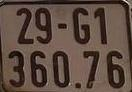-: (57, 23, 67, 29)
.: (76, 83, 81, 88)
0: (53, 51, 70, 87)
1: (94, 7, 108, 44)
2: (17, 8, 34, 44)
3: (9, 51, 24, 87)
6: (107, 51, 125, 88), (31, 51, 47, 87)
7: (84, 51, 99, 88)
9: (36, 7, 52, 43)
G: (73, 7, 90, 44)
